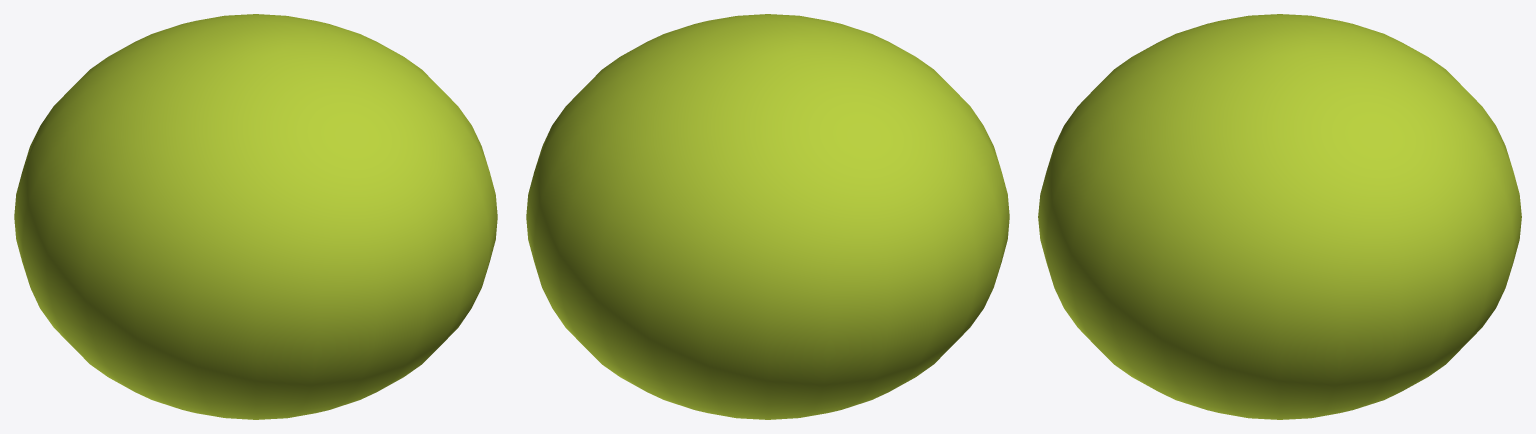
The model's file is EchinodorusBleheri.glb.
3 renders of one model, left to right at view 1: azimuth 30°, elevation 25°; view 2: azimuth 150°, elevation 25°; view 3: azimuth 270°, elevation 25°, orthographic.
Visible parts, largest first — view 1: Amazon_Sword_Plant__Schematic_LOD3; view 2: Amazon_Sword_Plant__Schematic_LOD3; view 3: Amazon_Sword_Plant__Schematic_LOD3.
Boxes of the visible parts, x1,y1,x2,y2 form: Amazon_Sword_Plant__Schematic_LOD3: [14, 14, 497, 419]; Amazon_Sword_Plant__Schematic_LOD3: [526, 14, 1009, 419]; Amazon_Sword_Plant__Schematic_LOD3: [1038, 14, 1521, 419].
Bounding box in the file's own units: 1.1 × 0.92 × 1.1.
